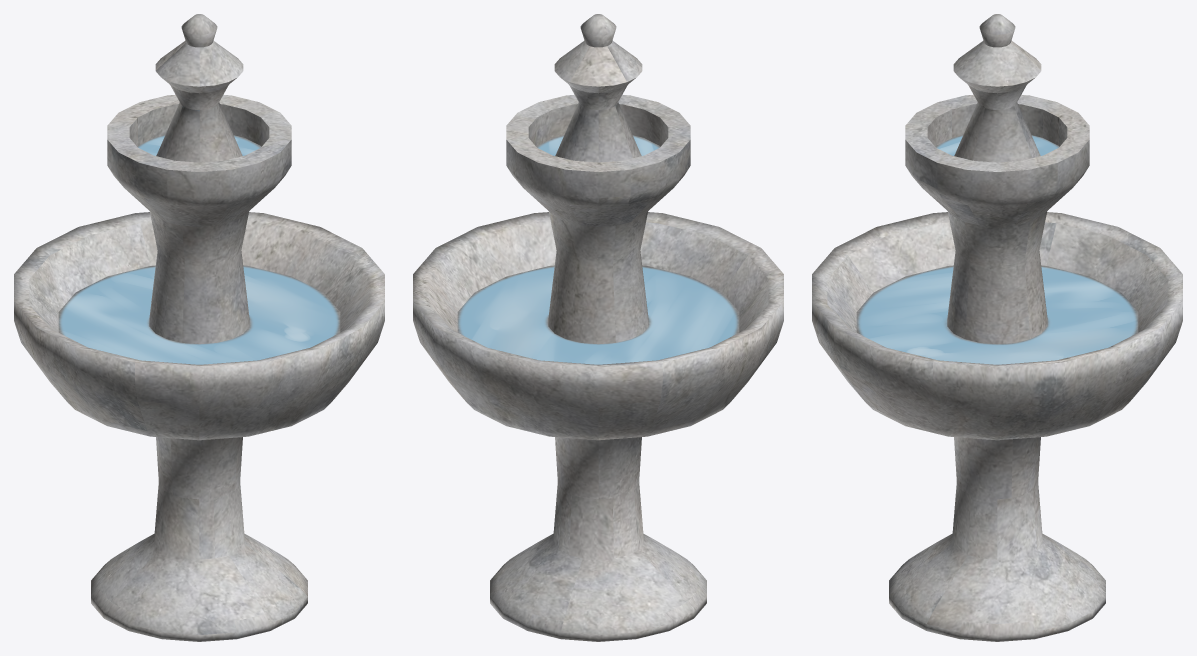
Rendered from FOUNTAIN 1.fbx.
3 renders of one model, left to right at view 1: azimuth 30°, elevation 25°; view 2: azimuth 150°, elevation 25°; view 3: azimuth 270°, elevation 25°, orthographic.
Visible parts, largest first — view 1: Cilindro001; view 2: Cilindro001; view 3: Cilindro001.
Part boxes in pixels (bbox=[...]): Cilindro001: bbox=[14, 14, 384, 641]; Cilindro001: bbox=[413, 14, 783, 641]; Cilindro001: bbox=[812, 14, 1182, 641].
Bounding box in the file's own units: 39.91 × 67.74 × 39.3.
Materials: 1 (1 with a texture image).
